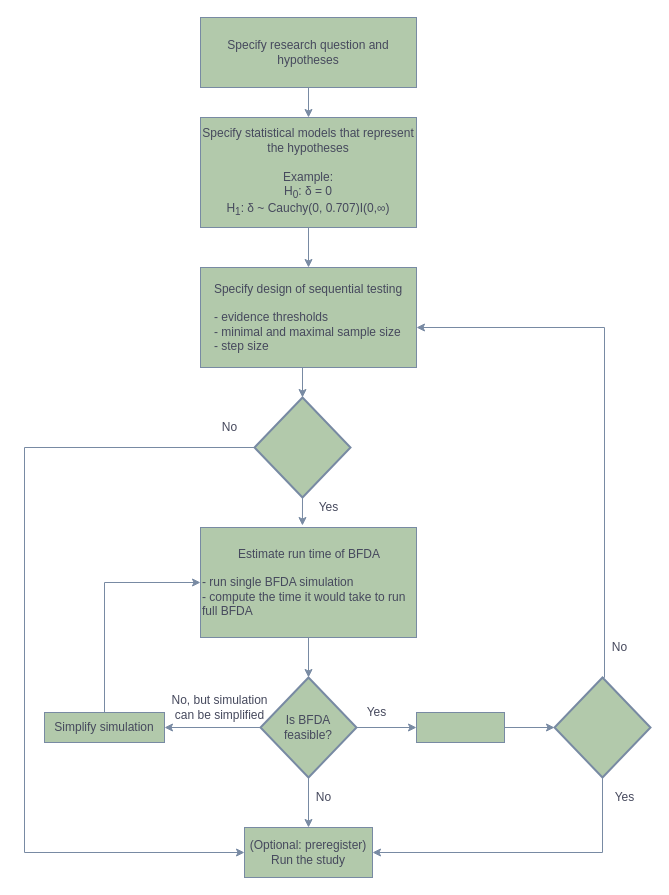
This 669x895 diagram has some shape labels left out. The shapes that lost their labels are listed below. From the top down, each one's centre as x and y in pixels, then its label:
At pixel 302 447: "Is BFDA desired?".
At pixel 460 727: "Run BFDA".
At pixel 602 727: "Is the design adequate?".
